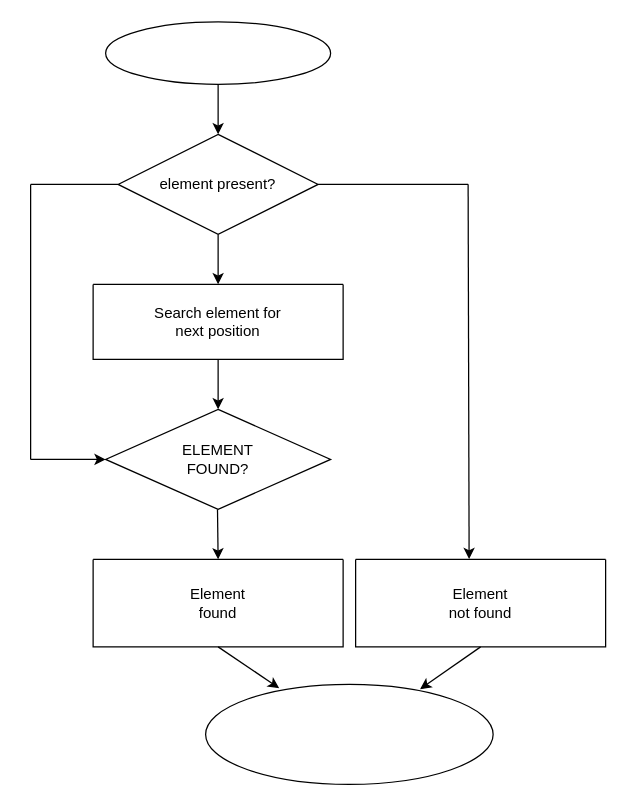
The diagram is 628 pixels wide and 806 high, and some of its shapes have lost their labels. Here are the shapes that lost their labels. From the top down, the box of each, then its label:
(104, 21, 331, 84): START
(204, 683, 493, 784): STOP
